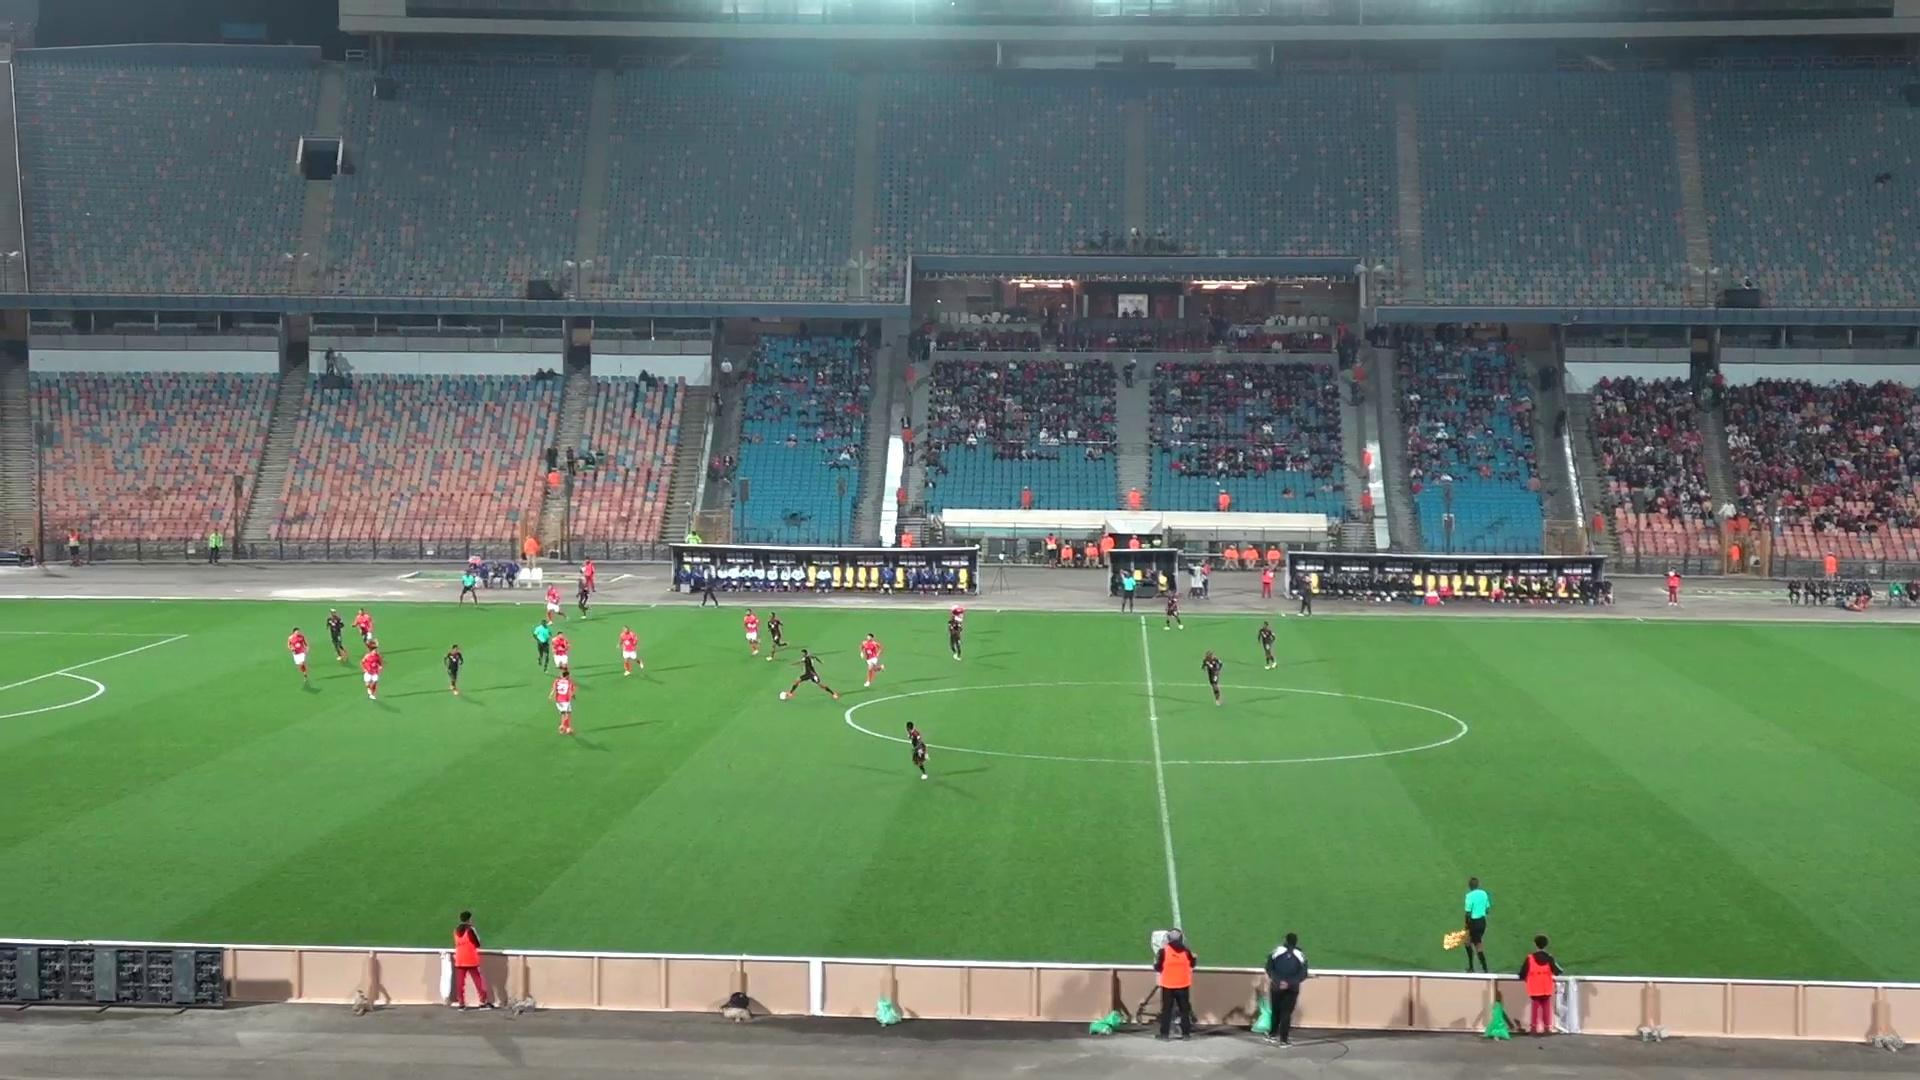Ball: (779, 690, 794, 702)
Refree: (1443, 878, 1491, 971), (531, 620, 560, 673), (1113, 568, 1139, 612), (458, 563, 481, 604)
Team1: (549, 669, 578, 735), (858, 634, 884, 688), (360, 644, 384, 700), (618, 626, 644, 675), (287, 626, 309, 680), (351, 608, 375, 646), (742, 609, 760, 655), (543, 583, 563, 622)
Team2: (781, 647, 841, 698), (905, 723, 930, 781), (1200, 650, 1224, 705), (324, 608, 348, 662), (442, 644, 465, 695), (765, 612, 787, 661), (1254, 621, 1276, 669), (948, 604, 967, 661), (1159, 589, 1182, 628), (576, 574, 592, 616)
